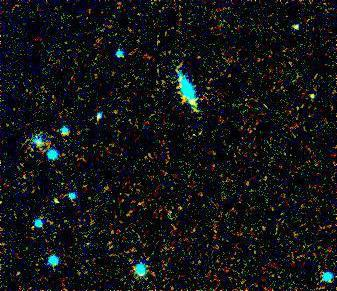star: (180, 92, 210, 122)
